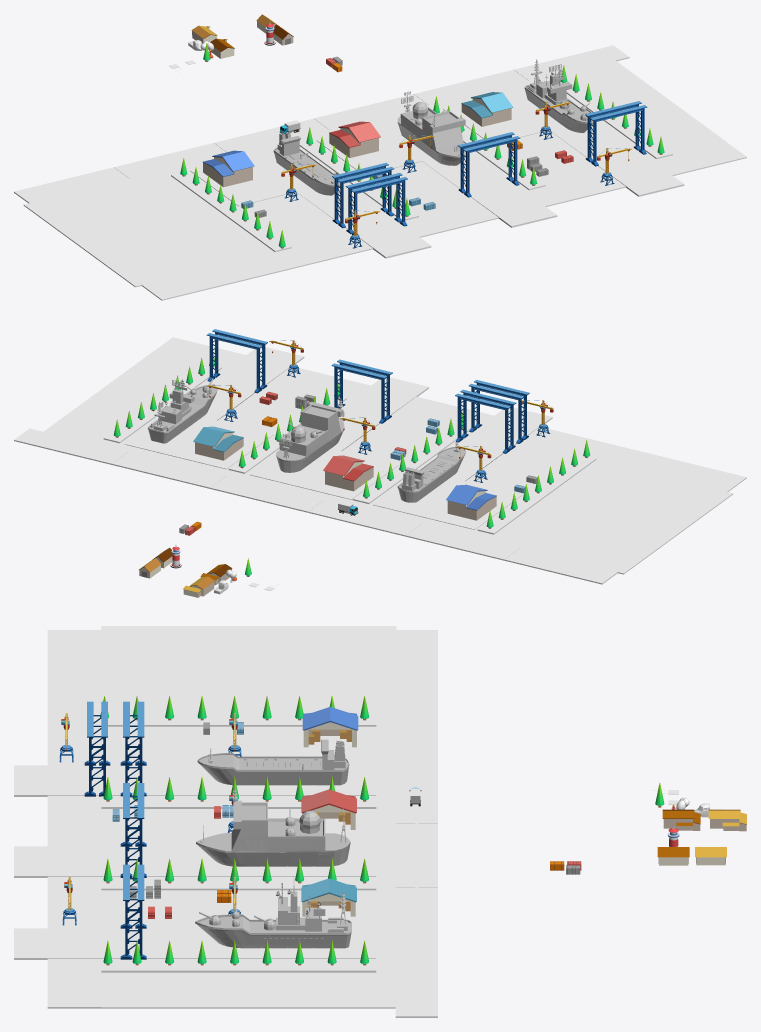
Rendered from map.fbx.
The picture shows the model from 3 angles, top to bottom: view 1: azimuth 30°, elevation 25°; view 2: azimuth 150°, elevation 25°; view 3: azimuth 270°, elevation 25°; orthographic projection. The views are drawn at different scales.
Parts seen in each view (by area): view 1: polySurface120, pCube97, pCube121, pCube132, pCube123, ship_1_3:ship1_2:polySurface74, polySurface1438, duong_chinh, duong_chinh4, duong_chinh1, tham_co_1, duong_chinh5 (+12 smaller); view 2: polySurface120, pCube97, pCube132, pCube121, pCube123, ship_1_3:ship1_2:polySurface74, polySurface121, polySurface1438, duong_chinh, duong_chinh1, duong_chinh4, duong_chinh5 (+14 smaller); view 3: polySurface120, pCube97, pCube121, pCube132, pCube123, ship_1_3:ship1_2:polySurface74, polySurface1438, polySurface1437, polySurface121, duong_chinh5, duong_chinh1, duong_chinh3 (+16 smaller).
Boxes of the visible parts, x1,y1,x2,y2 form: polySurface120: (23, 60, 726, 287); pCube97: (141, 142, 746, 300); pCube121: (190, 150, 431, 258); pCube132: (443, 89, 684, 196); pCube123: (316, 120, 557, 227); ship_1_3:ship1_2:polySurface74: (273, 132, 340, 195); polySurface1438: (560, 65, 672, 159); duong_chinh: (14, 167, 129, 203); duong_chinh4: (414, 69, 529, 105); duong_chinh1: (114, 143, 226, 178); tham_co_1: (171, 170, 291, 252); duong_chinh5: (514, 45, 629, 81); polySurface120: (44, 352, 733, 574); pCube97: (153, 337, 746, 491); pCube132: (124, 347, 304, 469); pCube121: (373, 407, 552, 529); pCube123: (249, 377, 428, 499); ship_1_3:ship1_2:polySurface74: (397, 441, 465, 502); polySurface121: (352, 411, 470, 503); polySurface1438: (103, 353, 221, 443); duong_chinh: (504, 548, 617, 584); duong_chinh1: (406, 524, 519, 560); duong_chinh4: (112, 452, 225, 488); duong_chinh5: (14, 428, 126, 464); polySurface120: (101, 626, 396, 1008); pCube97: (47, 630, 101, 1008); pCube121: (14, 728, 376, 796); pCube132: (14, 891, 376, 959); pCube123: (14, 809, 376, 877); ship_1_3:ship1_2:polySurface74: (197, 739, 349, 785); polySurface1438: (101, 940, 376, 972); polySurface1437: (101, 858, 376, 890); polySurface121: (101, 777, 376, 808); duong_chinh5: (395, 951, 437, 1017); duong_chinh1: (395, 694, 437, 758); duong_chinh3: (395, 823, 437, 887).
Size of the model in its own units: 2636 by 206 by 2092.
